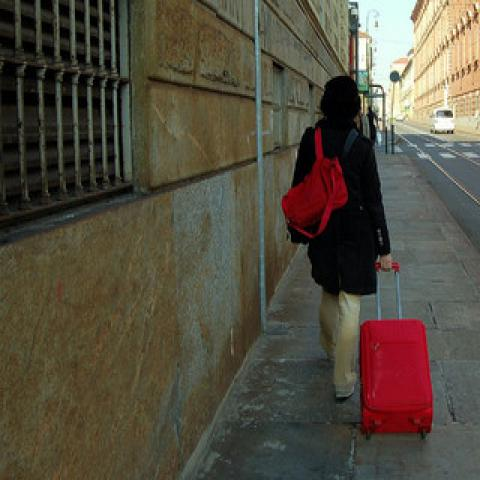bus: (428, 108, 455, 134)
car: (429, 110, 455, 134)
